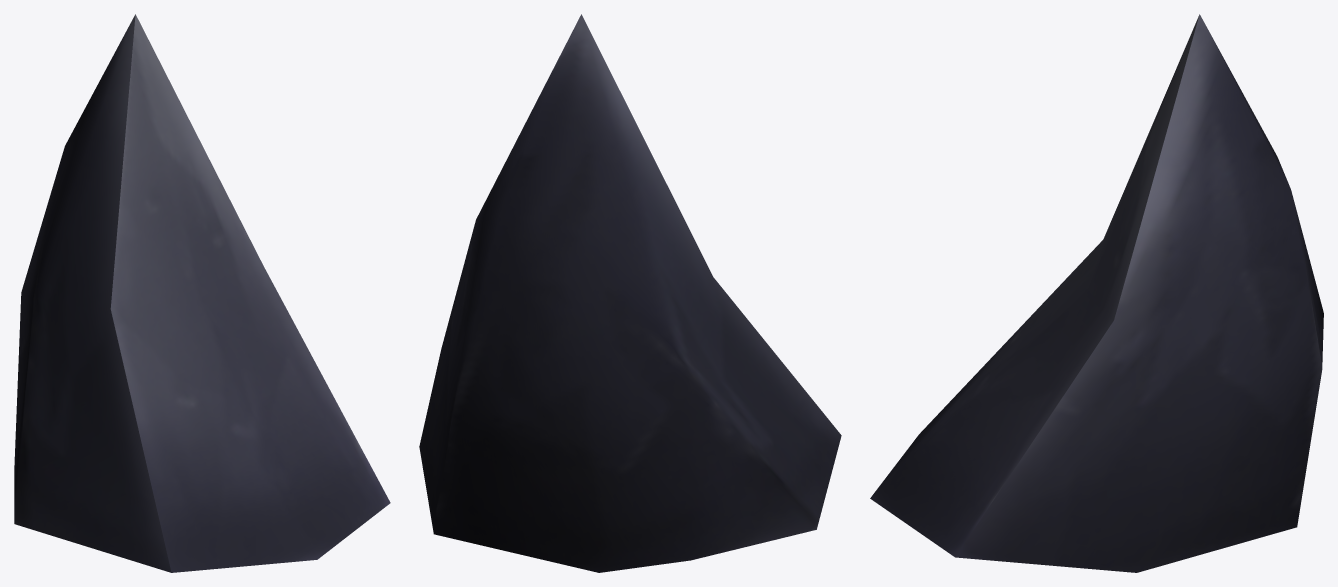
Rendered from Rock_A.fbx.
The picture shows the model from 3 angles, left to right: view 1: azimuth 30°, elevation 25°; view 2: azimuth 150°, elevation 25°; view 3: azimuth 270°, elevation 25°; orthographic projection. The views are drawn at different scales.
Parts seen in each view (by area): view 1: Rock_A; view 2: Rock_A; view 3: Rock_A.
Boxes of the visible parts, box(x1,y1,x2,y2) form: Rock_A: box(14, 14, 390, 572); Rock_A: box(419, 14, 841, 572); Rock_A: box(870, 14, 1323, 572).
Size of the model in its own units: 51.72 by 65.17 by 57.03.
1 material, 1 textured.
